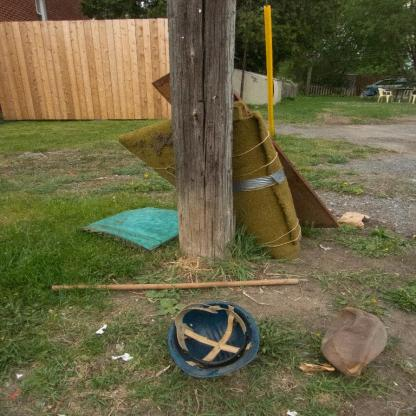Helmet: (161, 311, 259, 387)
